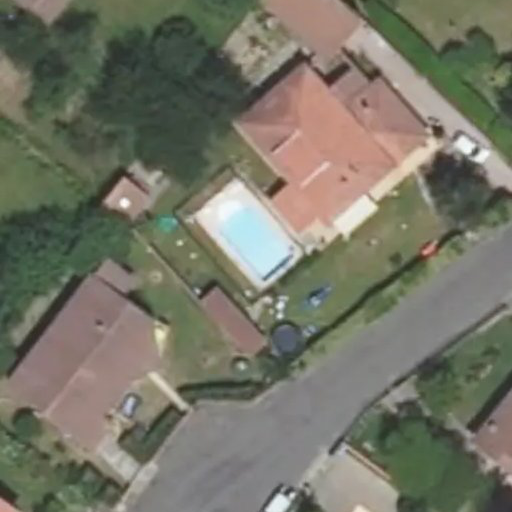pool: (206, 217, 296, 256)
